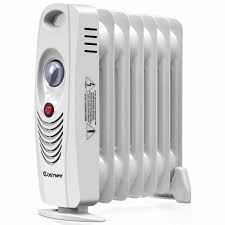Radiator: (34, 3, 191, 223)
